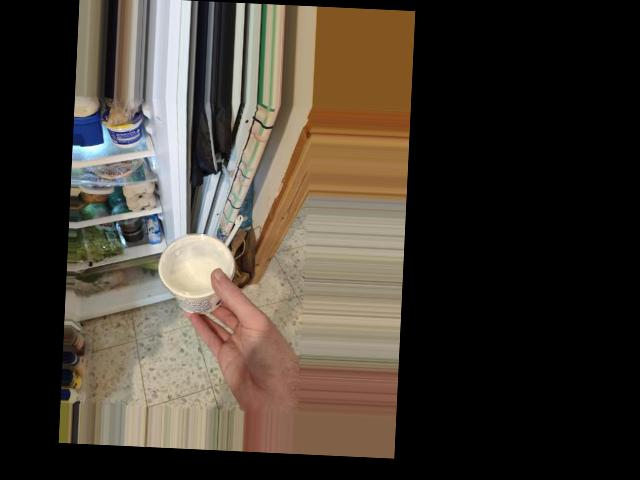cotage: (169, 233, 241, 320)
